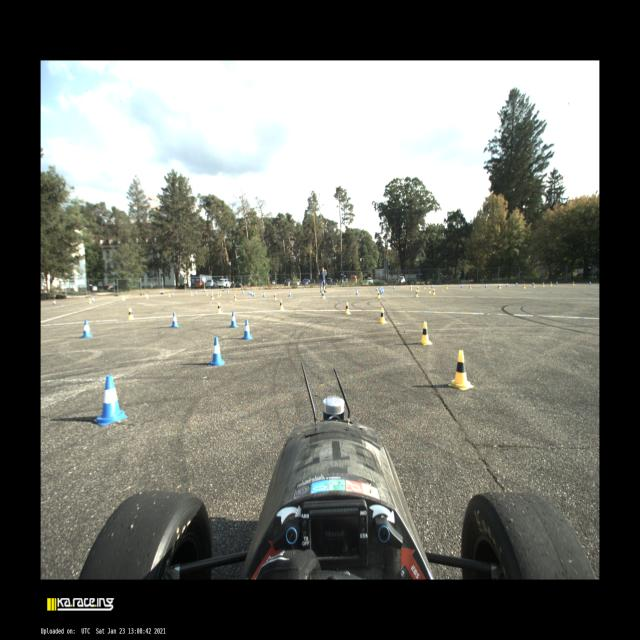blue_cone: (94, 376, 128, 426), (208, 336, 226, 366), (242, 320, 254, 340), (80, 321, 92, 338), (170, 312, 178, 328), (230, 312, 238, 328), (288, 291, 291, 297), (379, 287, 382, 292), (263, 292, 265, 298), (252, 292, 255, 296), (356, 289, 358, 295), (322, 290, 324, 296), (195, 291, 198, 295), (250, 290, 252, 296), (54, 300, 56, 305), (249, 290, 251, 295), (382, 288, 384, 293), (380, 290, 382, 294), (376, 287, 378, 291), (485, 284, 487, 288), (461, 284, 463, 288), (394, 285, 396, 289), (516, 282, 518, 286), (506, 283, 508, 287), (556, 281, 558, 285), (589, 281, 591, 285), (93, 298, 95, 302), (172, 292, 174, 296), (212, 290, 214, 294), (227, 290, 229, 294), (242, 290, 244, 294), (248, 290, 250, 294), (380, 286, 382, 290), (498, 284, 500, 288), (432, 284, 433, 288)
yellow_cone: (448, 350, 474, 390), (418, 321, 432, 345), (379, 308, 387, 324), (128, 308, 134, 320), (217, 302, 223, 314), (344, 302, 350, 314), (280, 299, 284, 310), (377, 290, 381, 298), (274, 292, 278, 300), (415, 290, 419, 297), (322, 292, 326, 299), (234, 294, 238, 300), (89, 298, 93, 304), (428, 287, 431, 293), (469, 284, 472, 288), (433, 289, 435, 295), (417, 286, 419, 292), (212, 294, 214, 300), (122, 296, 125, 300), (499, 284, 501, 289), (146, 294, 148, 299), (206, 291, 208, 296), (218, 292, 220, 297), (220, 291, 222, 296), (446, 284, 448, 288), (410, 286, 412, 290), (424, 284, 426, 288), (524, 284, 526, 288), (533, 284, 535, 288), (542, 282, 544, 286), (550, 282, 552, 286), (572, 282, 574, 286), (168, 293, 170, 297), (191, 292, 193, 296)
